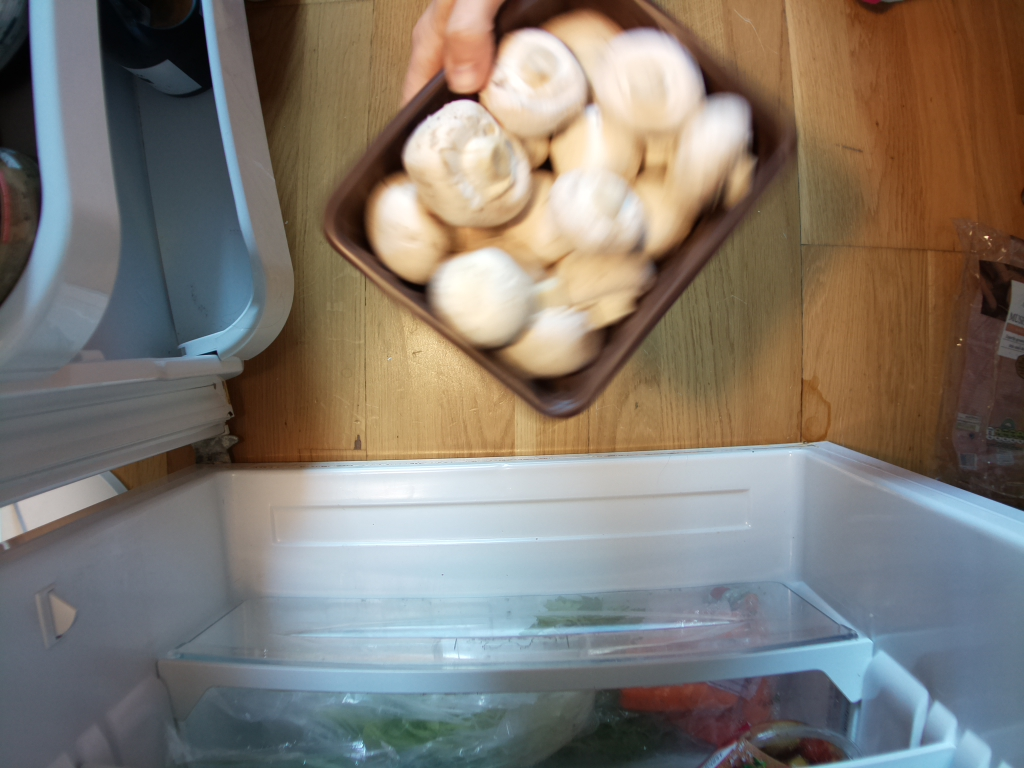mushrooms: (313, 1, 815, 423)
